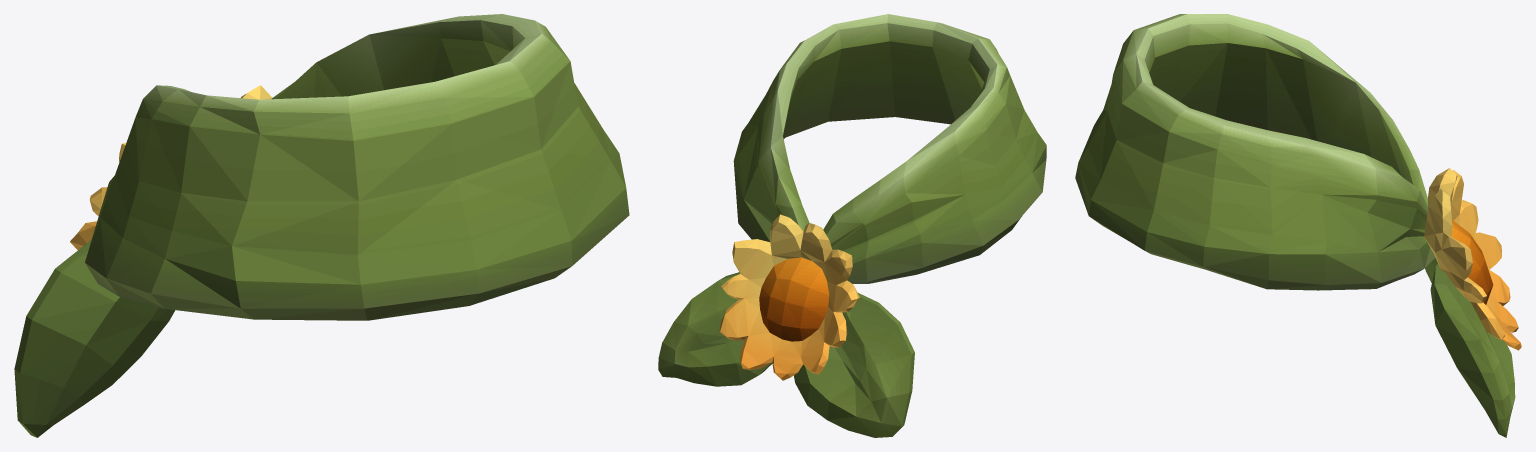
Rendered from CharSkyKid_Neck_SunflowerTie.glb.
3 renders of one model, left to right at view 1: azimuth 30°, elevation 25°; view 2: azimuth 150°, elevation 25°; view 3: azimuth 270°, elevation 25°, orthographic. The views are drawn at different scales.
Parts seen in each view (by area): view 1: CharSkyKid_Neck_SunflowerTie; view 2: CharSkyKid_Neck_SunflowerTie; view 3: CharSkyKid_Neck_SunflowerTie.
Part boxes in pixels (x1,y1,x2,y2): CharSkyKid_Neck_SunflowerTie: (14,14,629,437); CharSkyKid_Neck_SunflowerTie: (658,14,1046,437); CharSkyKid_Neck_SunflowerTie: (1075,14,1521,437).
Size of the model in its own units: 2.72 by 2.71 by 3.22.
1 material, 1 textured.
